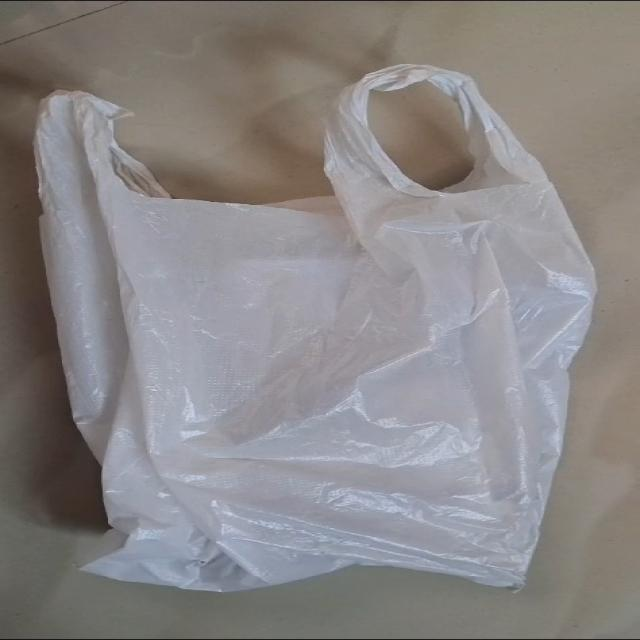plastic: (47, 58, 601, 627)
